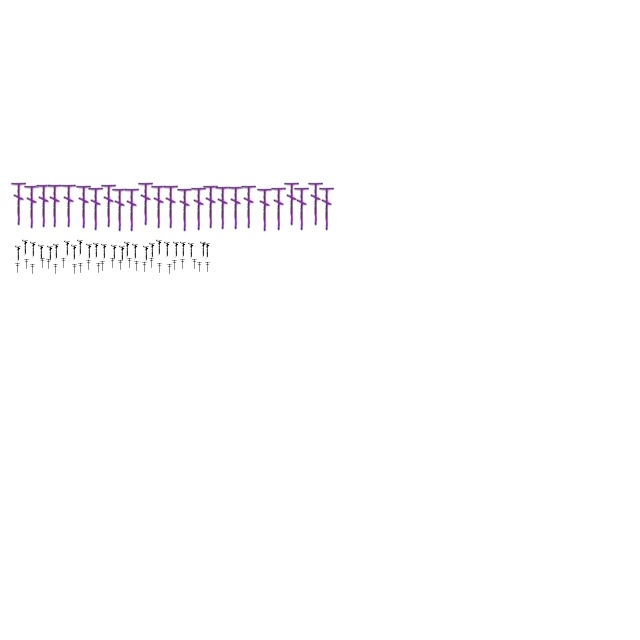double treble: (24, 183, 40, 229), (36, 182, 52, 228), (76, 183, 92, 229), (88, 185, 104, 231), (112, 186, 128, 232), (124, 186, 140, 232), (138, 180, 154, 226), (228, 184, 244, 230), (284, 180, 300, 226), (294, 185, 310, 231), (308, 180, 324, 226), (12, 180, 26, 226), (48, 182, 62, 228), (62, 182, 76, 228), (102, 182, 116, 228), (152, 183, 166, 229), (164, 183, 178, 229), (178, 186, 192, 232), (192, 185, 206, 231), (204, 183, 218, 229), (216, 184, 230, 230), (242, 183, 256, 229), (258, 186, 272, 232), (272, 185, 286, 231), (320, 185, 334, 231), (38, 244, 44, 262), (64, 240, 70, 258), (71, 244, 77, 262), (93, 242, 99, 260), (111, 244, 117, 262), (149, 242, 155, 260), (188, 242, 194, 260), (204, 242, 210, 260), (15, 246, 21, 262), (22, 240, 28, 256), (30, 242, 36, 258), (47, 246, 53, 262), (53, 244, 59, 260), (77, 240, 83, 256), (86, 244, 92, 260), (101, 244, 107, 260), (119, 246, 125, 262), (124, 242, 130, 258), (132, 244, 138, 260), (143, 246, 149, 262), (156, 240, 162, 256), (164, 242, 170, 258), (173, 242, 179, 258), (180, 242, 186, 258), (200, 242, 206, 258), (24, 259, 30, 269), (30, 264, 36, 274), (40, 258, 46, 268), (46, 259, 52, 269), (72, 264, 78, 274), (78, 263, 84, 273), (86, 260, 92, 270), (96, 263, 102, 273), (100, 261, 106, 271), (110, 258, 116, 268), (118, 260, 124, 270), (134, 261, 140, 271), (142, 262, 148, 272), (172, 260, 178, 270), (180, 259, 186, 269), (192, 259, 198, 269), (16, 263, 20, 273), (54, 264, 58, 274), (62, 258, 66, 268), (128, 258, 132, 268), (150, 258, 154, 268), (158, 263, 162, 273), (168, 264, 172, 274), (198, 262, 202, 272), (206, 262, 210, 272)
